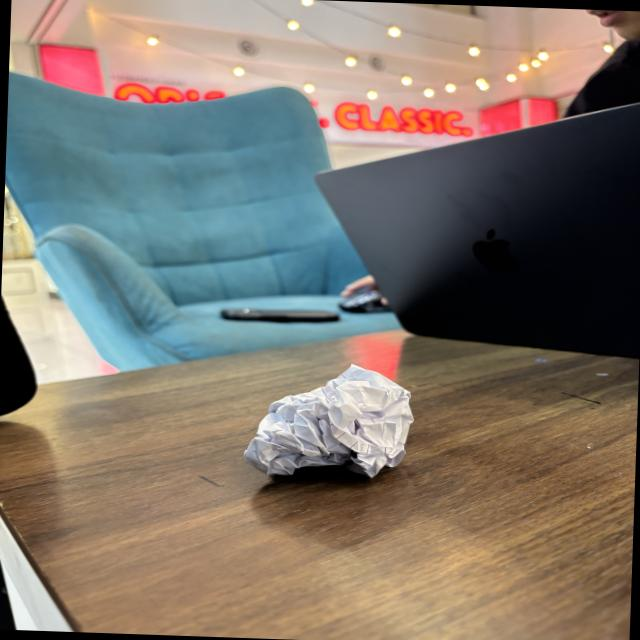crumpled_paper: (237, 355, 422, 491)
